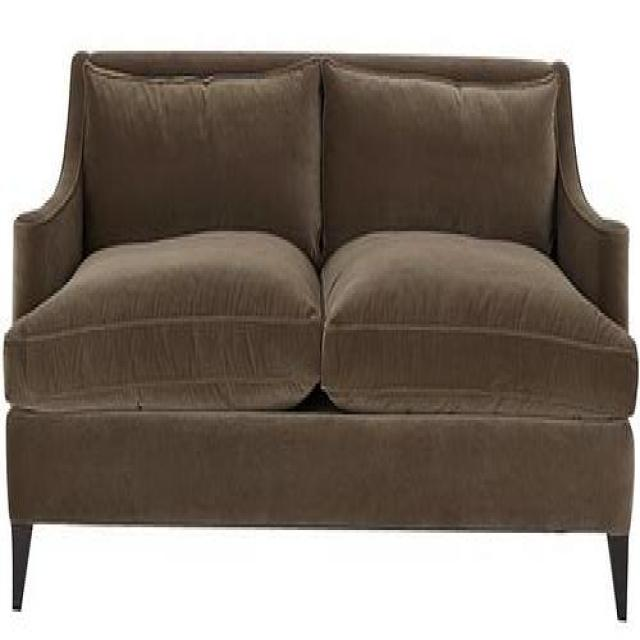sofa: (2, 48, 638, 622)
